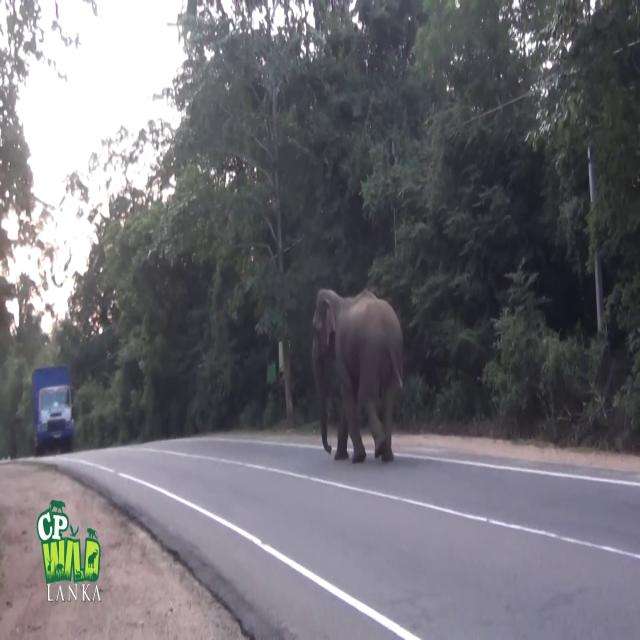Elephant: (311, 287, 404, 463)
